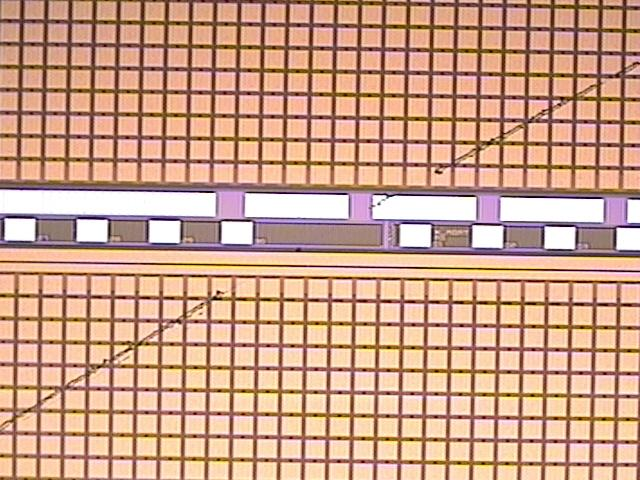SCRATCH: (1, 55, 640, 447)
